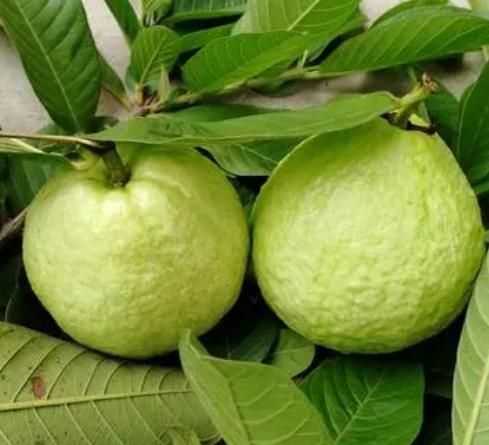guava_A: (250, 107, 484, 355), (22, 142, 250, 359)
